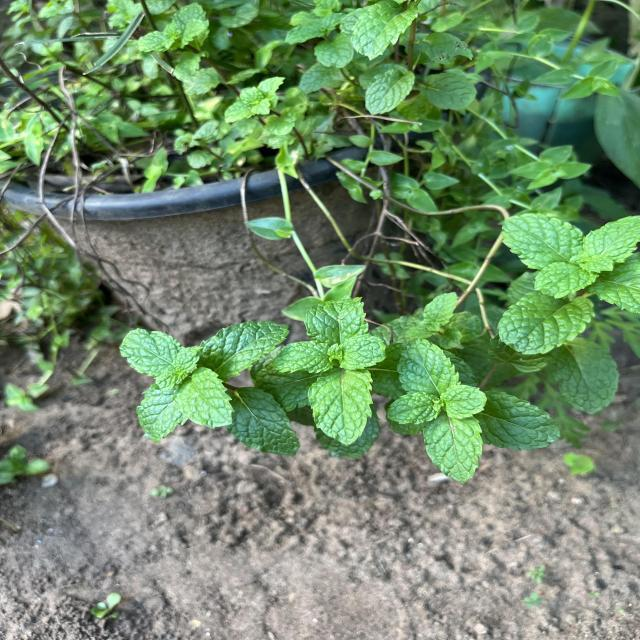Mentha spicata: (497, 292, 596, 356), (198, 319, 290, 382), (306, 370, 376, 448), (226, 387, 302, 457), (476, 391, 562, 452), (500, 214, 580, 268), (172, 367, 236, 430), (422, 420, 484, 484), (395, 338, 461, 393), (119, 328, 182, 378), (272, 340, 332, 375), (340, 333, 386, 371), (439, 384, 487, 420), (386, 392, 440, 424)
